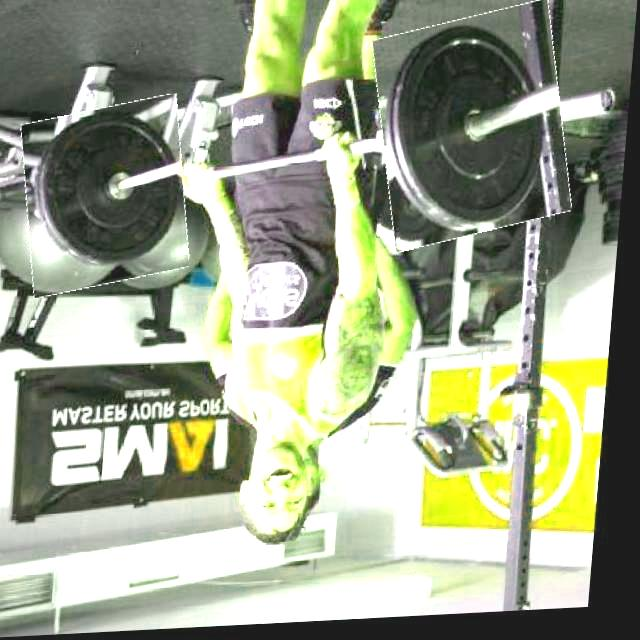barbell: (370, 11, 580, 252), (20, 101, 198, 296)
